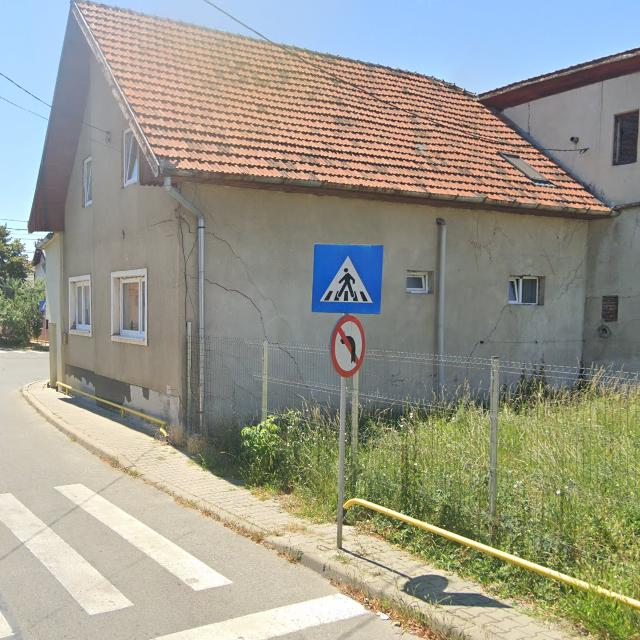forb_left: (330, 315, 366, 376)
info_crosswalk: (312, 244, 382, 314)
